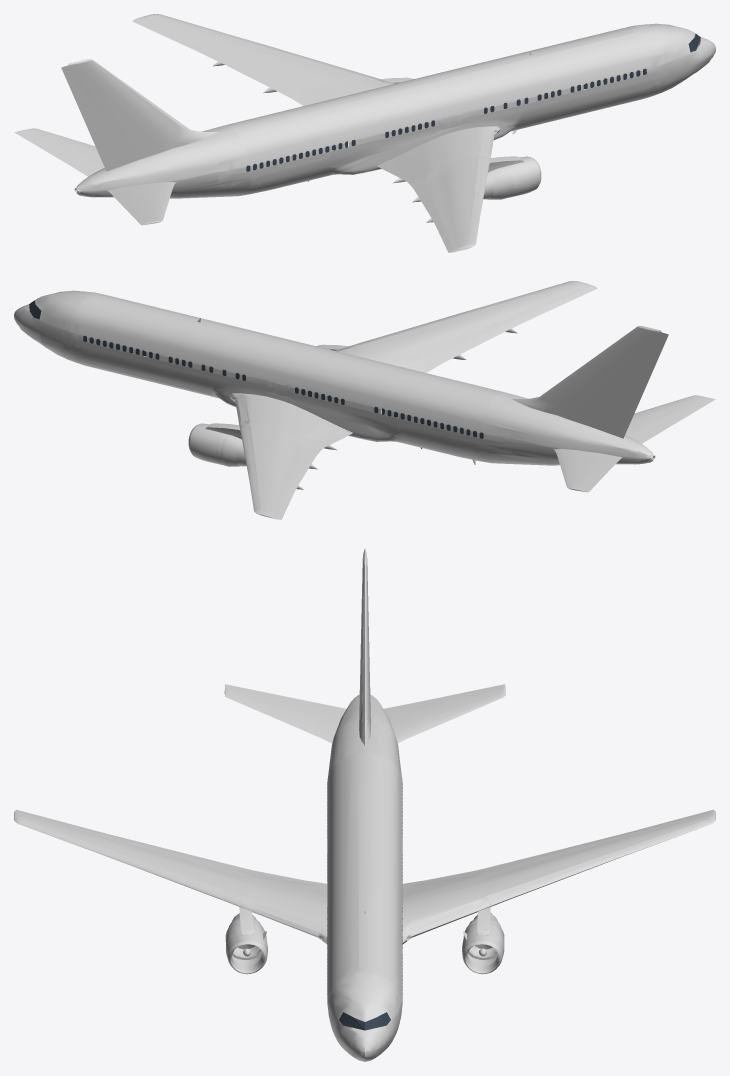
3 views of the same model, one above another, from view 1: azimuth 30°, elevation 25°; view 2: azimuth 150°, elevation 25°; view 3: azimuth 270°, elevation 25° (orthographic). The views are drawn at different scales.
Parts seen in each view (by area): view 1: body, glass; view 2: body, glass; view 3: body.
Part boxes in pixels (x1,y1,x2,y2): body: [14, 14, 715, 252]; glass: [246, 33, 700, 171]; body: [14, 281, 715, 519]; glass: [29, 300, 483, 438]; body: [14, 549, 715, 1061].
Bounding box in the file's own units: 2.2 × 0.6011 × 1.85.
